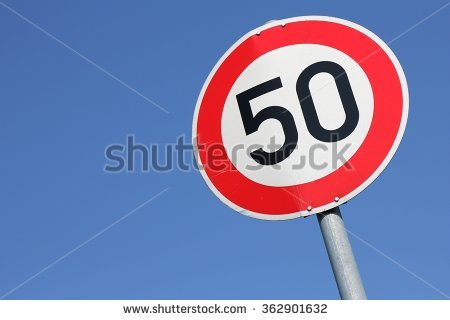Speed_limit_50km: (190, 19, 410, 226)
